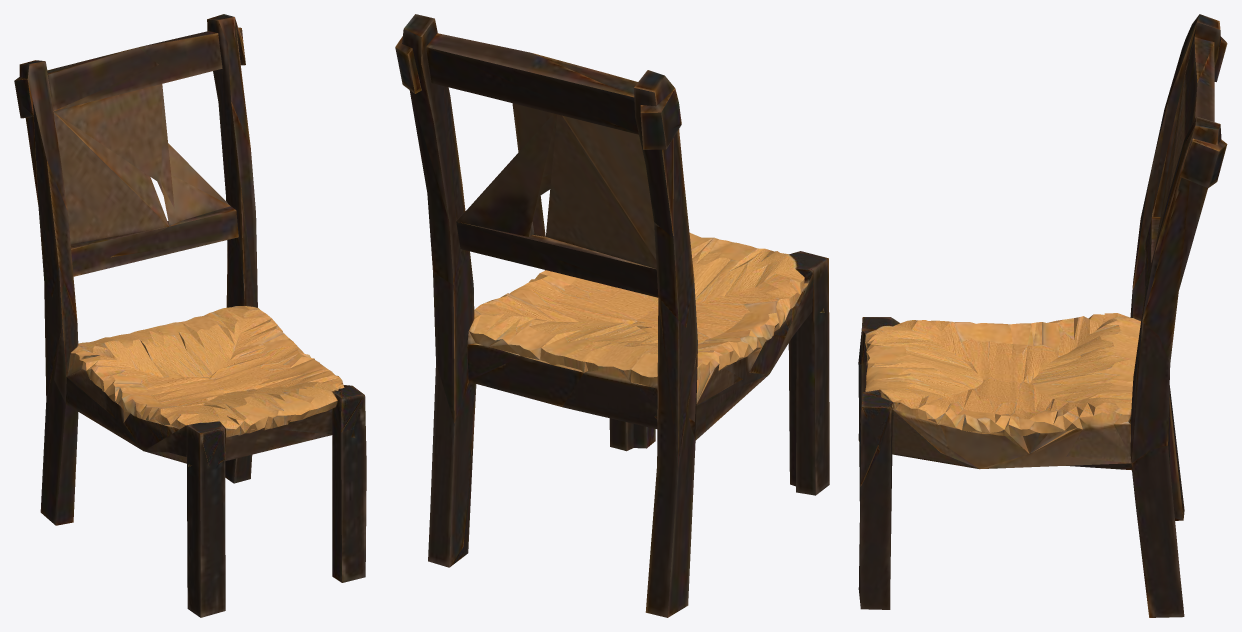
The model's file is chair.glb.
The picture shows the model from 3 angles, left to right: view 1: azimuth 30°, elevation 25°; view 2: azimuth 150°, elevation 25°; view 3: azimuth 270°, elevation 25°; orthographic projection. The views are drawn at different scales.
Visible parts, largest first — view 1: chair; view 2: chair; view 3: chair.
Part boxes in pixels (x1,y1,x2,y2): chair: [14, 14, 366, 617]; chair: [395, 14, 829, 617]; chair: [858, 14, 1227, 617].
Size of the model in its own units: 0.5 by 0.98 by 0.6595.
Materials: 1 (1 with a texture image).
